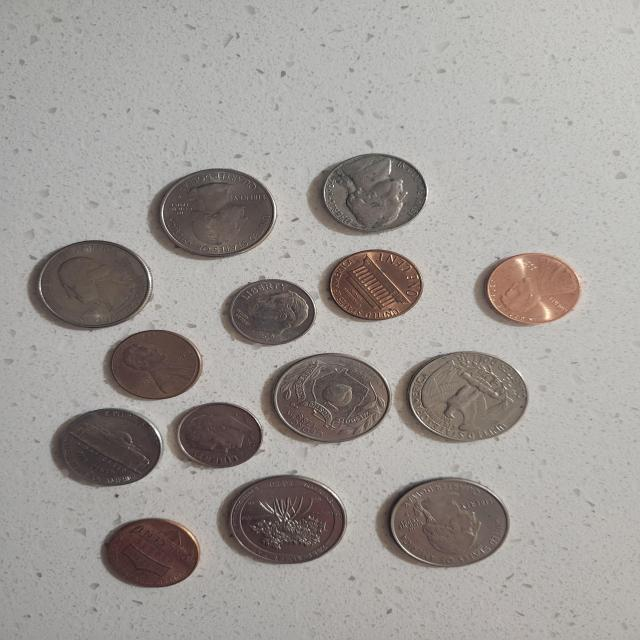Dime: (220, 276, 318, 346), (178, 402, 265, 470)
Nickel: (314, 150, 433, 239), (47, 404, 166, 491)
Penny: (323, 246, 433, 330), (484, 246, 586, 330), (102, 326, 206, 404), (100, 515, 204, 593)
Quarter: (380, 471, 512, 574), (401, 347, 534, 445), (150, 163, 280, 262), (270, 350, 394, 447), (227, 472, 351, 566), (29, 237, 152, 327)
